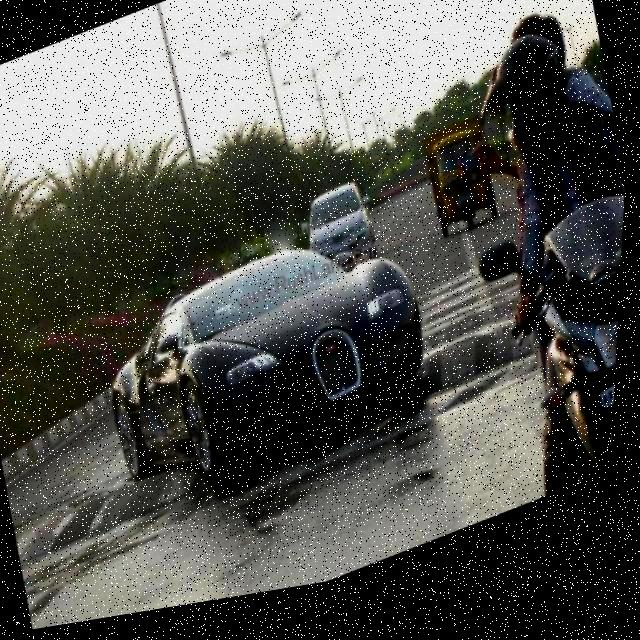license_plate: (600, 390, 621, 432)
